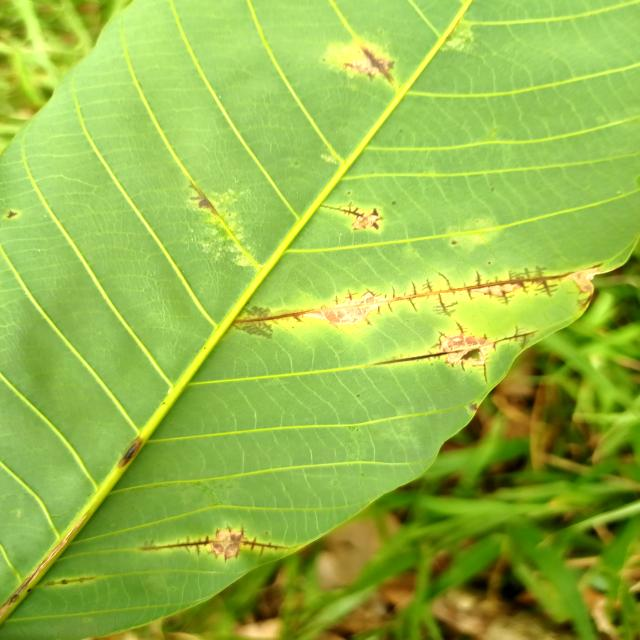Corynespora: (227, 265, 574, 340), (368, 320, 538, 384), (138, 522, 294, 565), (313, 202, 382, 233), (347, 44, 395, 86), (575, 296, 595, 310)
Leaf-Blight: (570, 267, 598, 292)
